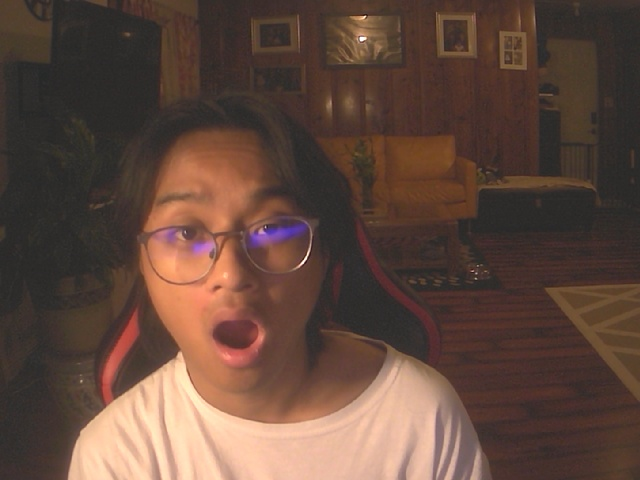fear: (115, 89, 354, 394)
